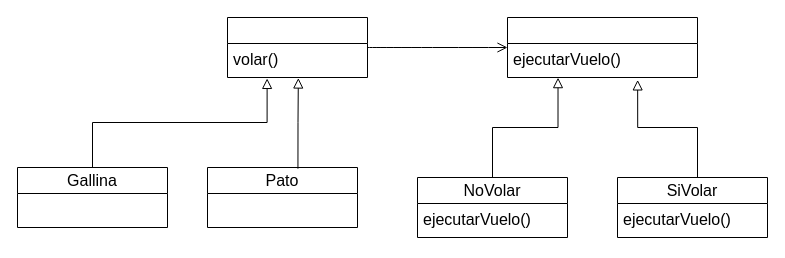
Image size: 785x258. Some labels were removed from this diagram. Each missing label, with the box of its shape:
Ave: (226, 16, 368, 78)
ComportamientoVolar: (506, 16, 698, 78)
